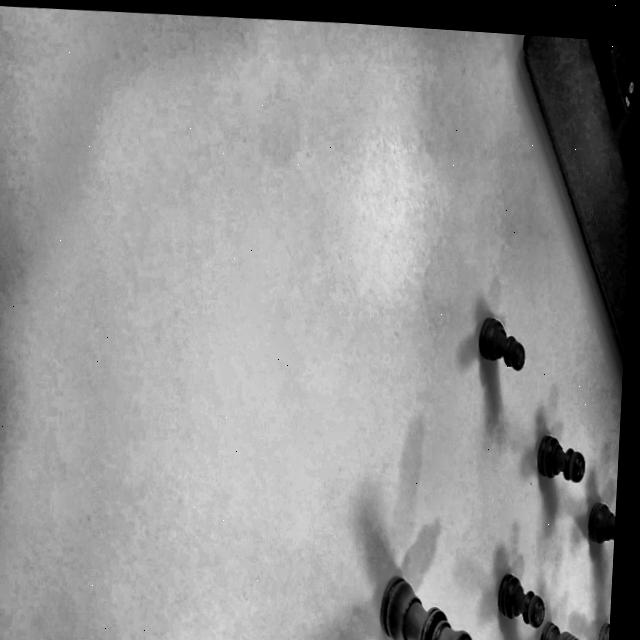black-king: (373, 525, 496, 640)
black-knight: (528, 615, 602, 640)
black-pawn: (469, 299, 534, 394), (527, 414, 589, 498), (494, 556, 549, 639)
